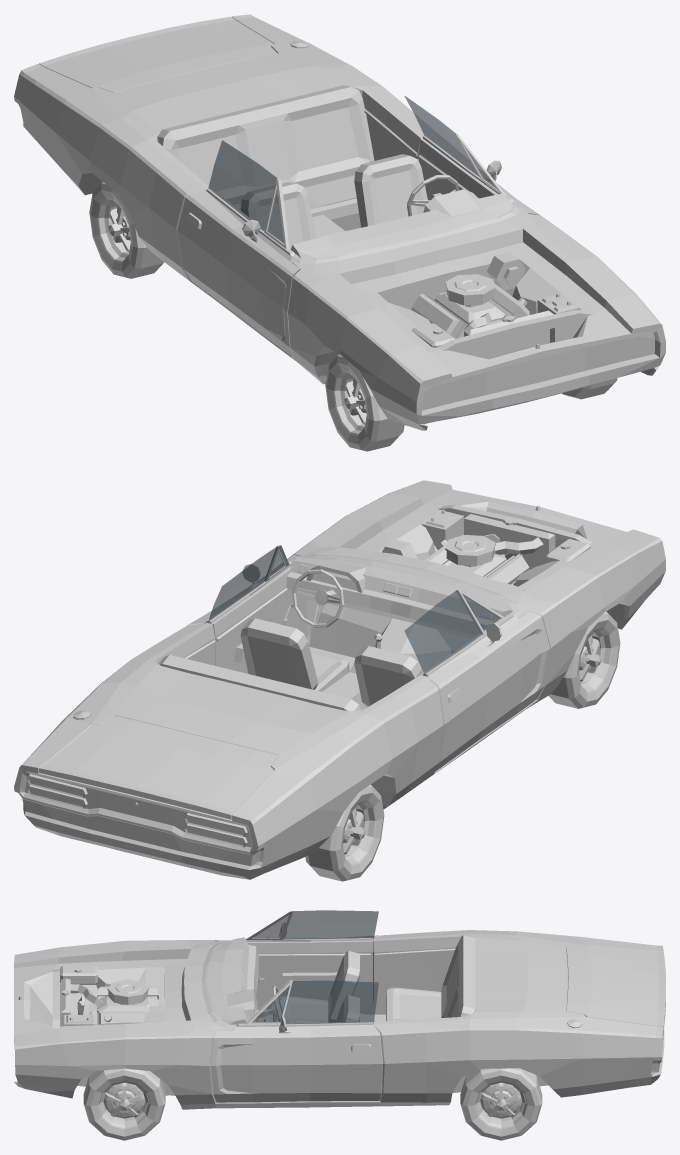
The model's file is Muscle_01_Base.glb.
3 views of the same model, one above another, from view 1: azimuth 30°, elevation 25°; view 2: azimuth 150°, elevation 25°; view 3: azimuth 270°, elevation 25° (orthographic). The views are drawn at different scales.
Visible parts, largest first — view 1: SM_Veh_Muscle_01, SM_Veh_Muscle_01_Door_R, SM_Veh_Muscle_01_Boot, SM_Veh_Muscle_01_Door_L, SM_Veh_Muscle_01_Wheel_fr, SM_Veh_Muscle_01_Wheel_rr; view 2: SM_Veh_Muscle_01, SM_Veh_Muscle_01_Door_R, SM_Veh_Muscle_01_Boot, SM_Veh_Muscle_01_Door_L, SM_Veh_Muscle_01_Wheel_rr, SM_Veh_Muscle_01_Wheel_fr, SM_Veh_Muscle_01_SteeringW; view 3: SM_Veh_Muscle_01, SM_Veh_Muscle_01_Door_L, SM_Veh_Muscle_01_Door_R, SM_Veh_Muscle_01_Boot, SM_Veh_Muscle_01_Wheel_rl, SM_Veh_Muscle_01_Wheel_fl.
Boxes of the visible parts, x1=… form: SM_Veh_Muscle_01: x1=14, y1=14, x2=665, y2=430; SM_Veh_Muscle_01_Door_R: x1=177, y1=140, x2=299, y2=357; SM_Veh_Muscle_01_Boot: x1=39, y1=16, x2=277, y2=93; SM_Veh_Muscle_01_Door_L: x1=404, y1=96, x2=540, y2=215; SM_Veh_Muscle_01_Wheel_fr: x1=325, y1=354, x2=404, y2=451; SM_Veh_Muscle_01_Wheel_rr: x1=89, y1=182, x2=164, y2=278; SM_Veh_Muscle_01: x1=14, y1=480, x2=665, y2=879; SM_Veh_Muscle_01_Door_R: x1=404, y1=588, x2=550, y2=771; SM_Veh_Muscle_01_Boot: x1=39, y1=715, x2=277, y2=819; SM_Veh_Muscle_01_Door_L: x1=187, y1=545, x2=307, y2=673; SM_Veh_Muscle_01_Wheel_rr: x1=305, y1=784, x2=384, y2=881; SM_Veh_Muscle_01_Wheel_fr: x1=548, y1=611, x2=620, y2=708; SM_Veh_Muscle_01_SteeringW: x1=292, y1=569, x2=344, y2=627; SM_Veh_Muscle_01: x1=14, y1=930, x2=665, y2=1109; SM_Veh_Muscle_01_Door_L: x1=211, y1=980, x2=382, y2=1102; SM_Veh_Muscle_01_Door_R: x1=214, y1=910, x2=379, y2=1014; SM_Veh_Muscle_01_Boot: x1=566, y1=946, x2=665, y2=1028; SM_Veh_Muscle_01_Wheel_rl: x1=460, y1=1068, x2=542, y2=1140; SM_Veh_Muscle_01_Wheel_fl: x1=83, y1=1068, x2=165, y2=1140.
Size of the model in its own units: 2.19 by 1.43 by 5.68.
